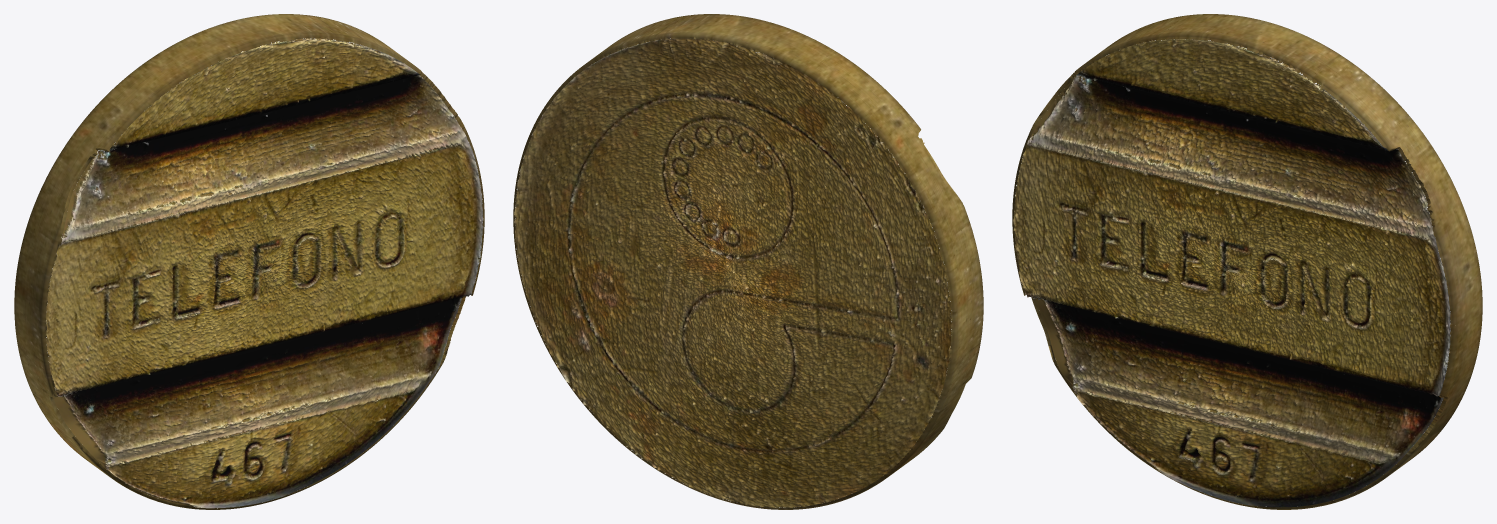
File: ficha-telefono.glb
3 views of the same model, side by side, from view 1: azimuth 30°, elevation 25°; view 2: azimuth 150°, elevation 25°; view 3: azimuth 330°, elevation 25° (orthographic).
Visible parts, largest first — view 1: obverse, edge; view 2: reverse, edge; view 3: obverse, edge.
Part boxes in pixels (x1,y1,x2,y2): obverse: (46, 38, 483, 508); edge: (14, 14, 484, 509); reverse: (514, 38, 951, 507); edge: (513, 14, 983, 509); obverse: (1013, 39, 1450, 507); edge: (1012, 14, 1482, 509).
Bounding box in the file's own units: 0.019 × 0.019 × 0.0024.
3 materials, 3 textured.
